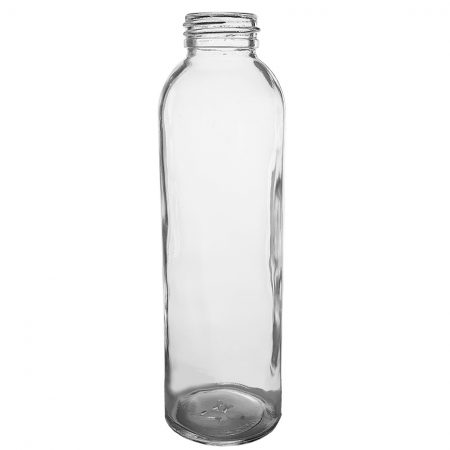glass_bottle: (154, 2, 294, 450)
